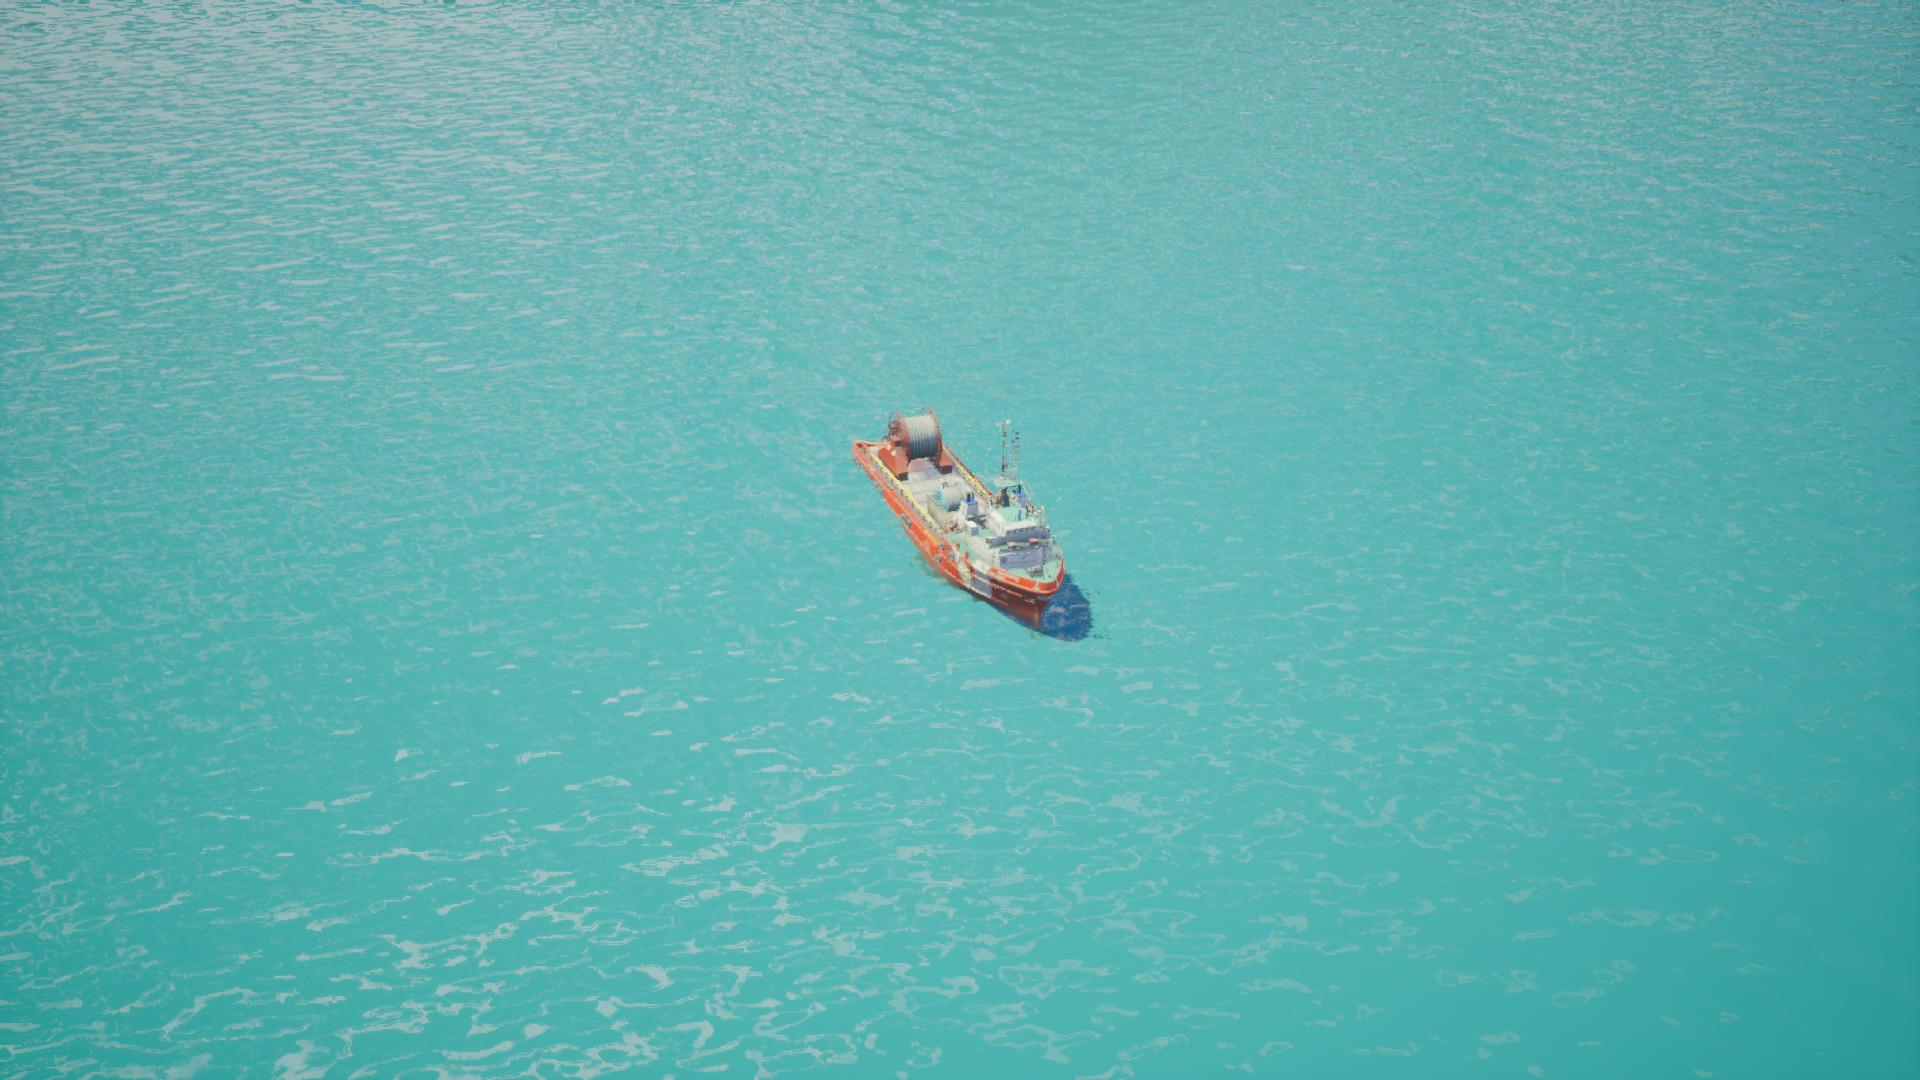Tug Boat: (855, 418, 1163, 687)
